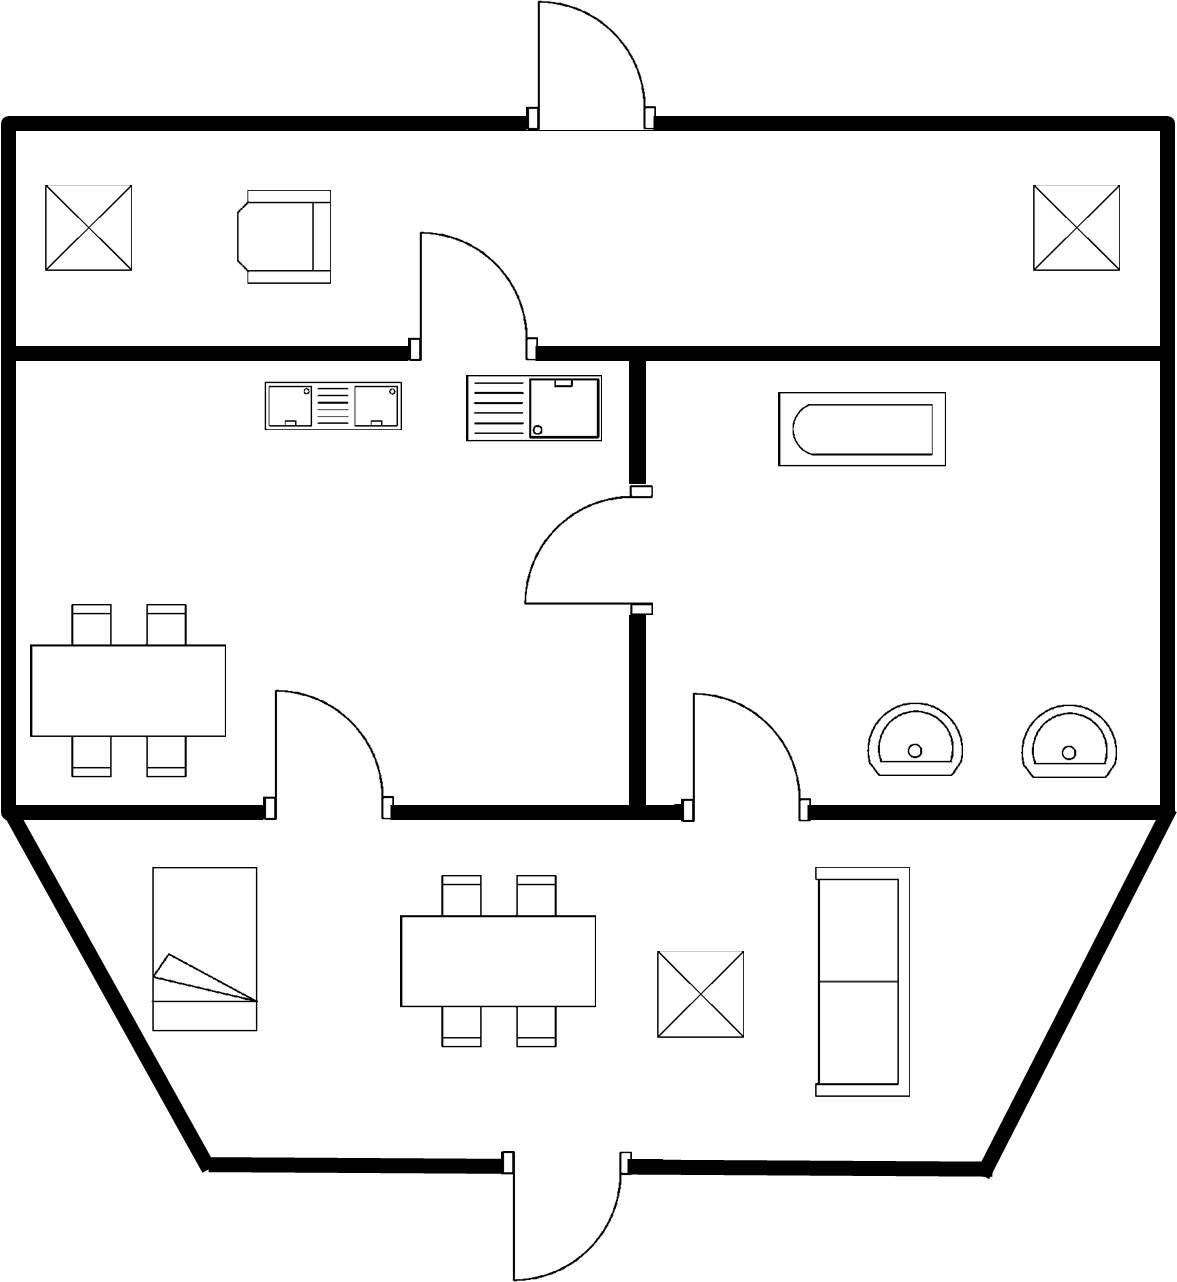sink: (252, 370, 408, 438)
